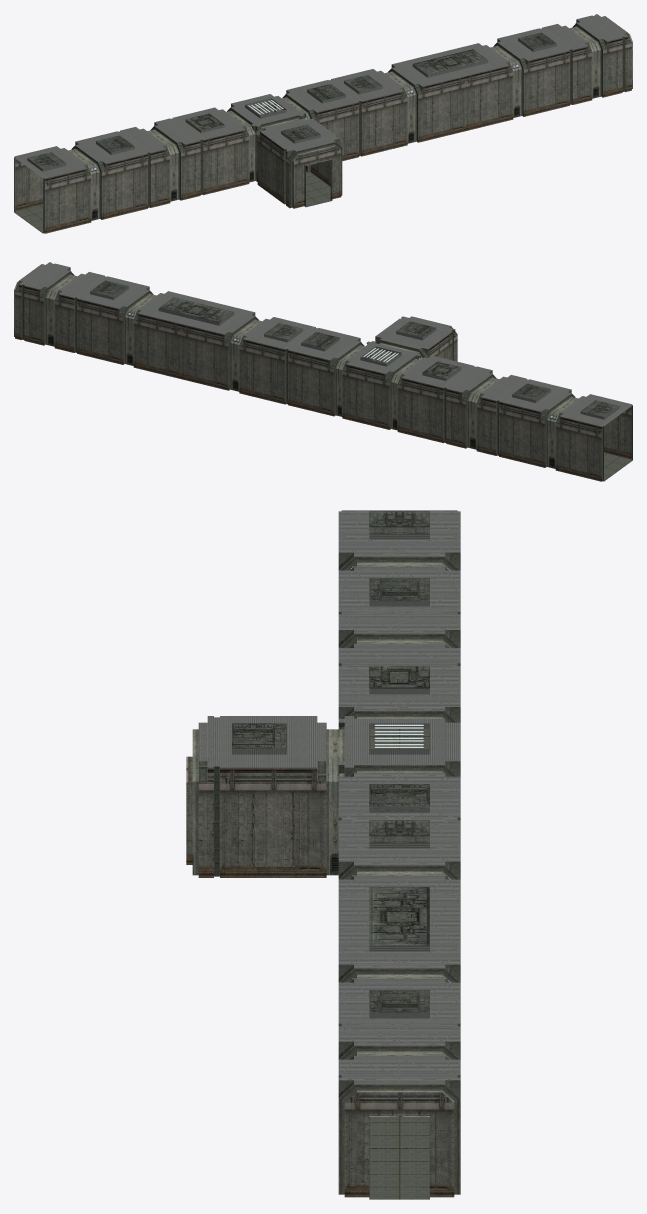
Rendered from poi_all_impl_bunker_crimelord_retreat_s01_r7_hallway03_mesh_r7.fbx.
3 views of the same model, one above another, from view 1: azimuth 30°, elevation 25°; view 2: azimuth 150°, elevation 25°; view 3: azimuth 270°, elevation 25° (orthographic). The views are drawn at different scales.
Visible parts, largest first — view 1: mesh_node; view 2: mesh_node; view 3: mesh_node.
Boxes of the visible parts, bbox=[...] form: mesh_node: bbox=[14, 14, 632, 233]; mesh_node: bbox=[14, 262, 632, 481]; mesh_node: bbox=[186, 510, 460, 1199].
Size of the model in its own units: 45 by 4.2 by 9.
